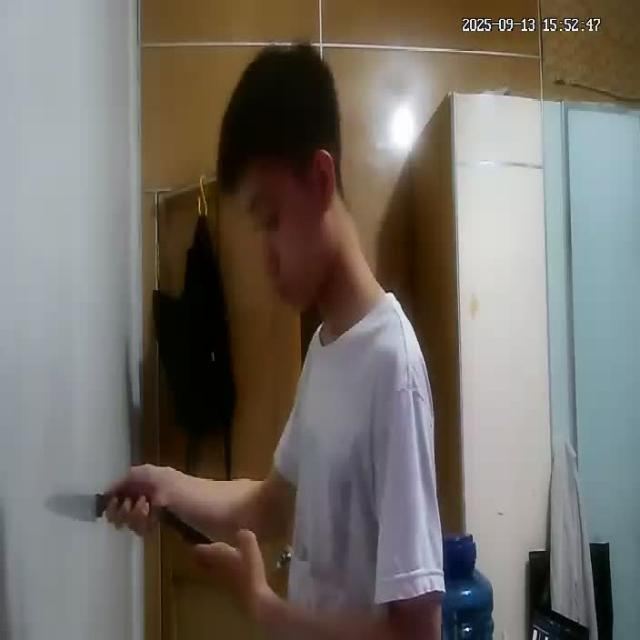senjata_tajam: (39, 492, 107, 524)
